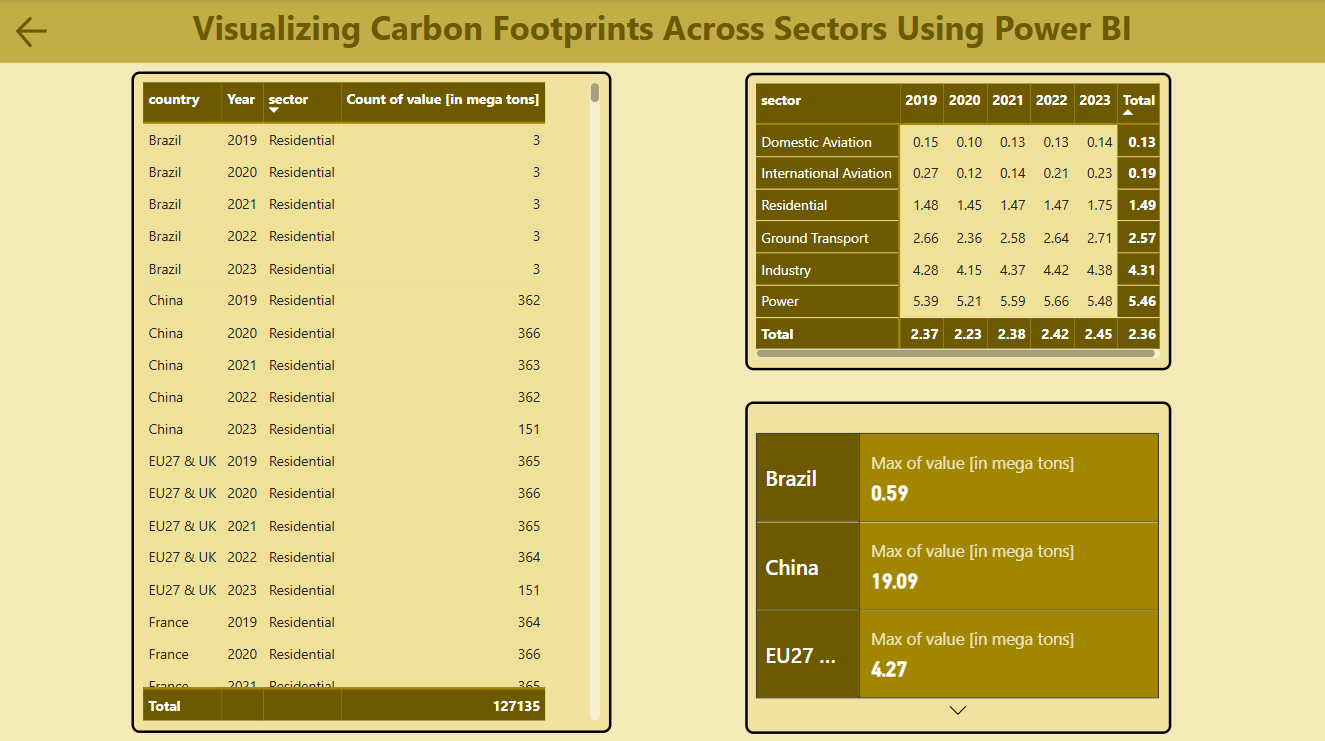

Layout of this report page (visuals, bound fields, positions):
{"tool":"powerbi","page":{"name":"Page 3","canvas":[1280,720],"ordinal":2},"visuals":[{"type":"textbox","box":[0,0,1280.3,61.7],"z":0},{"type":"pivotTable","fields":{"Rows":["80881fd3222431095135.sector"],"Columns":["80881fd3222431095135.Year"],"Values":["Avg(80881fd3222431095135.value [in mega tons])"]},"box":[720.7,71.4,411.4,287.1],"z":1000},{"type":"tableEx","fields":{"Values":["80881fd3222431095135.country","80881fd3222431095135.Year","80881fd3222431095135.sector","Count(80881fd3222431095135.value [in mega tons])"]},"box":[127.9,70,463.3,638.2],"z":2000},{"type":"cardVisual","fields":{"Data":["Max(80881fd3222431095135.value [in mega tons])"],"Rows":["80881fd3222431095135.country"]},"box":[720.7,388.7,411.4,320.9],"z":3000},{"type":"actionButton","box":[12.1,12.1,42.2,39.8],"z":5000}]}

Visuals, with their boxes in screenshot pixels (x1, y1, x2, y2), scaled from the page's 1280x720 canvas onto the 1325x741 screenshot:
textbox: (0,0,1324,63)
pivotTable - 80881fd3222431095135.sector x 80881fd3222431095135.Year: (746,73,1172,369)
tableEx - 80881fd3222431095135.country x 80881fd3222431095135.Year: (132,72,612,729)
cardVisual - Max(80881fd3222431095135.value [in mega tons]) x 80881fd3222431095135.country: (746,400,1172,730)
actionButton: (13,12,56,53)
